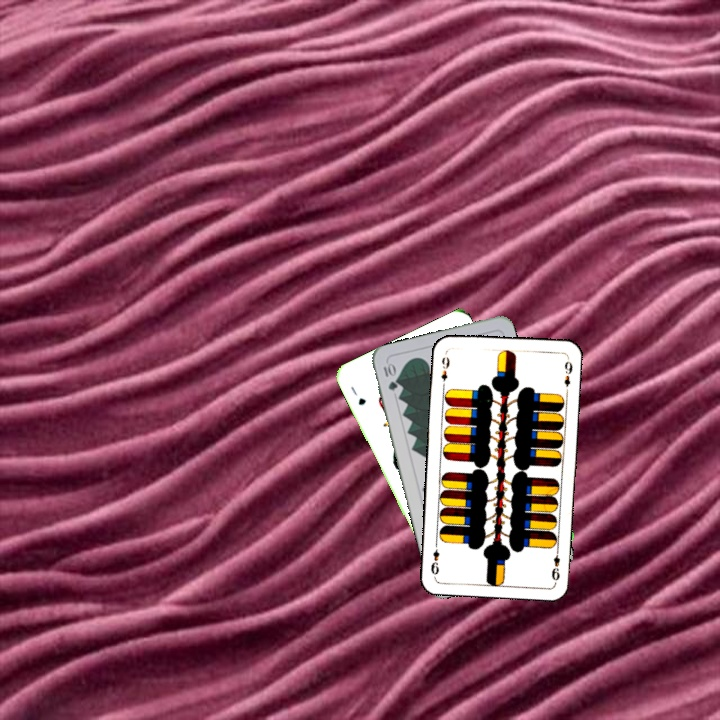E9: (547, 544, 562, 583), (437, 353, 452, 389)
G10: (379, 359, 400, 393)
GU: (346, 382, 369, 408)
